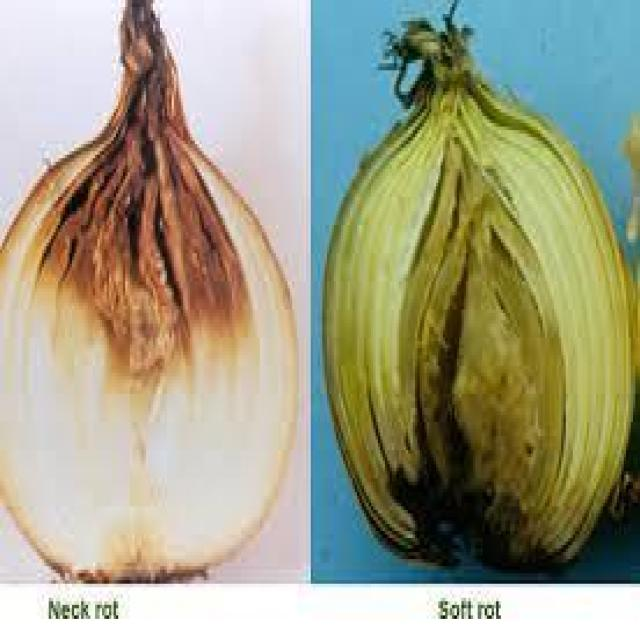Onion: (0, 14, 301, 594), (329, 11, 633, 573)
